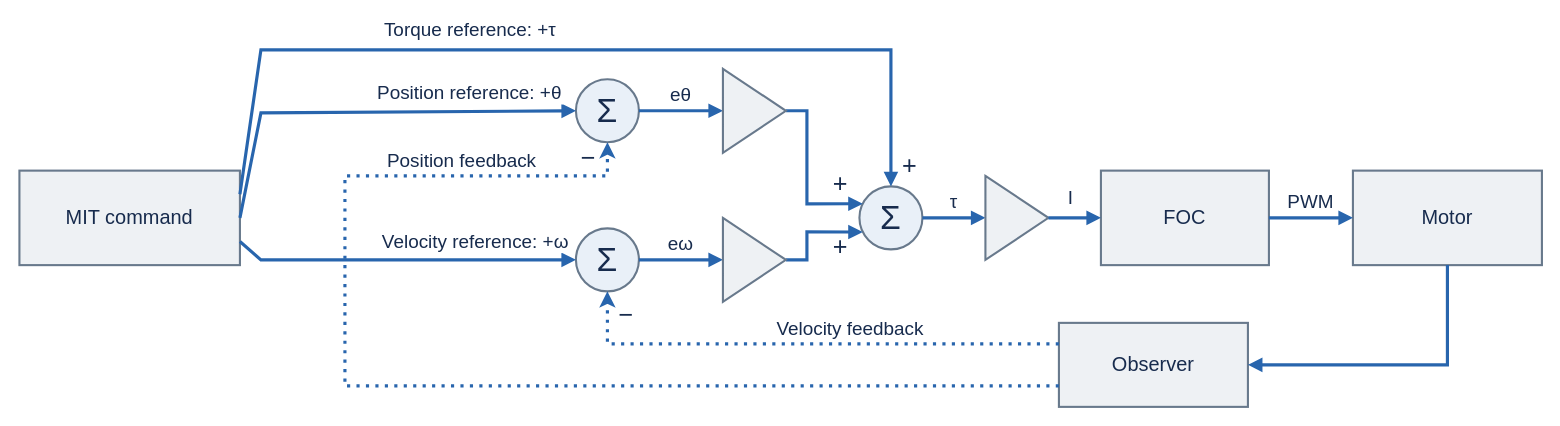
Image size: 1560x426. Some labels were removed from this diagram. The shapes that lost their labels are listed below. From the top down, each one's centre as x and y in pixels, then its label:
[753,110]: Kp
[1016,217]: Kt
[753,259]: Kd
